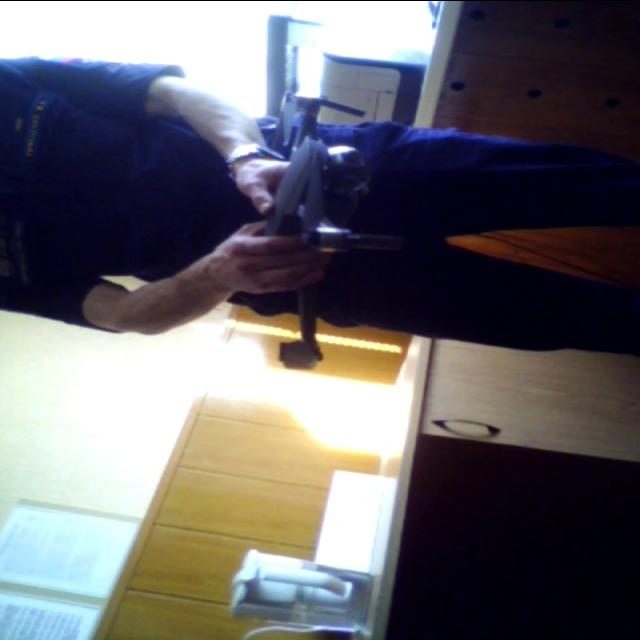drone: (232, 51, 392, 378)
